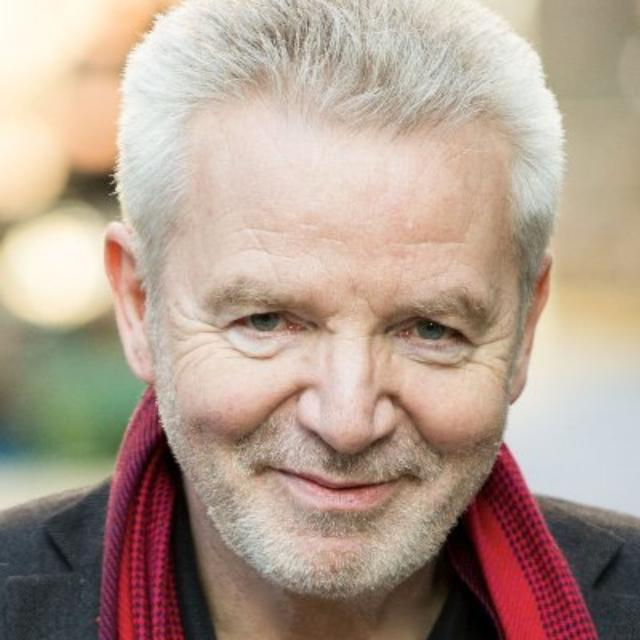crows_feet: (468, 331, 510, 379), (178, 314, 220, 360)
forehead: (242, 216, 276, 268)
frown_line: (356, 293, 384, 323)
gummy_smile: (254, 384, 302, 436), (389, 393, 437, 442)
